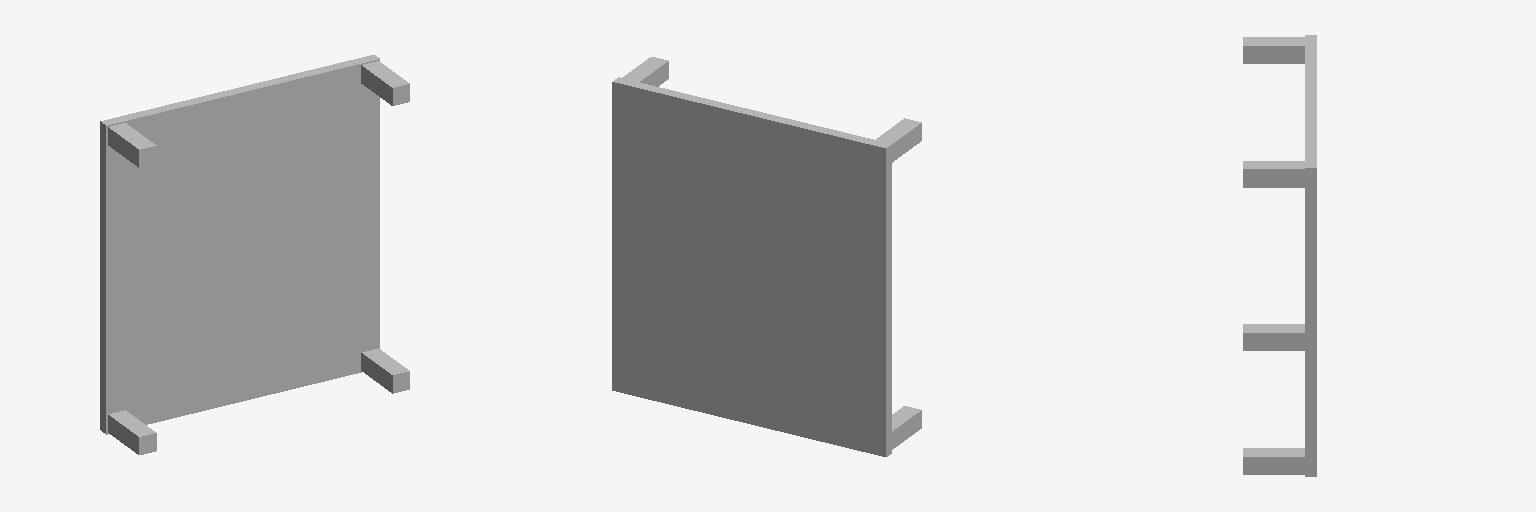
Rendered from random_table23.obj.
3 views of the same model, side by side, from view 1: azimuth 30°, elevation 25°; view 2: azimuth 150°, elevation 25°; view 3: azimuth 270°, elevation 25° (orthographic).
Parts seen in each view (by area): view 1: Table_Cube.310, TableLeg2_Cube.313, TableLeg1_Cube.312, TableLeg0_Cube.311, TableLeg3_Cube.314; view 2: Table_Cube.310, TableLeg1_Cube.312, TableLeg3_Cube.314, TableLeg0_Cube.311; view 3: Table_Cube.310, TableLeg0_Cube.311, TableLeg1_Cube.312, TableLeg2_Cube.313, TableLeg3_Cube.314.
Boxes of the visible parts, box(x1,y1,x2,y2) form: Table_Cube.310: box(100, 55, 379, 434); TableLeg2_Cube.313: box(361, 348, 409, 393); TableLeg1_Cube.312: box(108, 123, 156, 167); TableLeg0_Cube.311: box(361, 61, 409, 105); TableLeg3_Cube.314: box(108, 410, 156, 454); Table_Cube.310: box(612, 77, 891, 456); TableLeg1_Cube.312: box(876, 118, 921, 162); TableLeg3_Cube.314: box(892, 406, 921, 449); TableLeg0_Cube.311: box(622, 57, 668, 86); Table_Cube.310: box(1305, 35, 1316, 476); TableLeg0_Cube.311: box(1243, 161, 1304, 187); TableLeg1_Cube.312: box(1243, 37, 1304, 63); TableLeg2_Cube.313: box(1243, 448, 1304, 474); TableLeg3_Cube.314: box(1243, 324, 1304, 350).
Size of the model in its own units: 7.13 by 7.68 by 1.68.